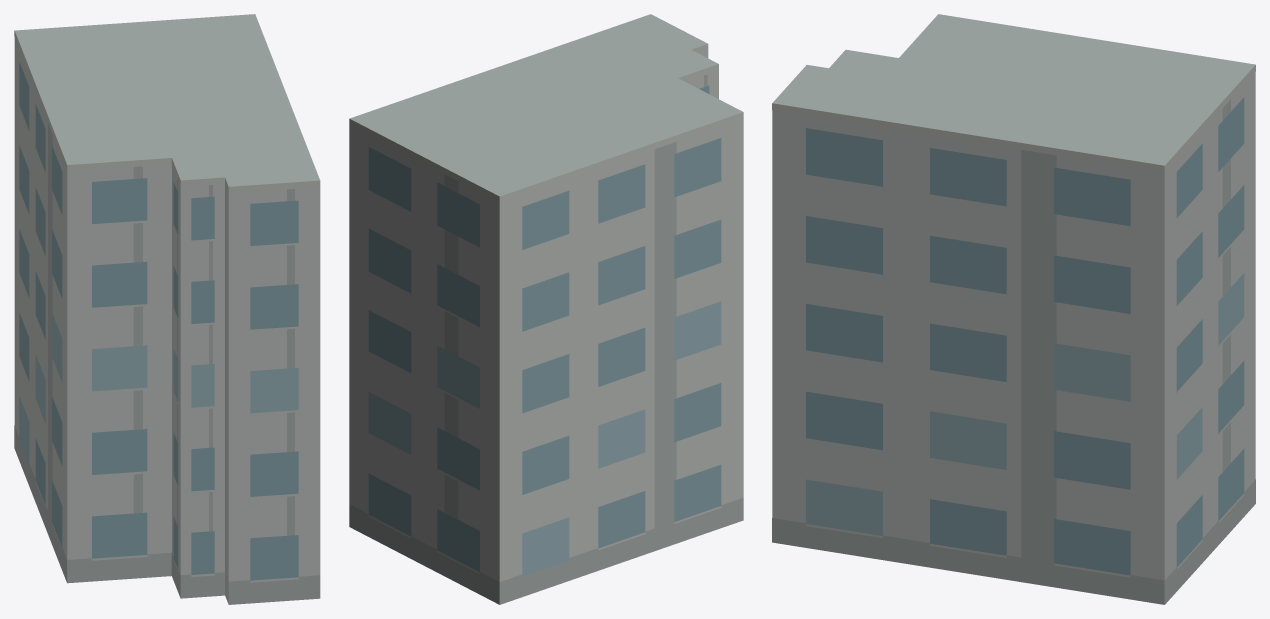
File: survey-upis-32515798.glb
3 renders of one model, left to right at view 1: azimuth 30°, elevation 25°; view 2: azimuth 150°, elevation 25°; view 3: azimuth 270°, elevation 25°, orthographic. The views are drawn at different scales.
Parts seen in each view (by area): view 1: survey-upis-32515798.tmp; view 2: survey-upis-32515798.tmp; view 3: survey-upis-32515798.tmp.
Part boxes in pixels (x1=…): survey-upis-32515798.tmp: x1=14, y1=14, x2=320, y2=604; survey-upis-32515798.tmp: x1=349, y1=14, x2=743, y2=604; survey-upis-32515798.tmp: x1=772, y1=14, x2=1255, y2=604.
Size of the model in its own units: 11.41 by 15.4 by 15.38.
